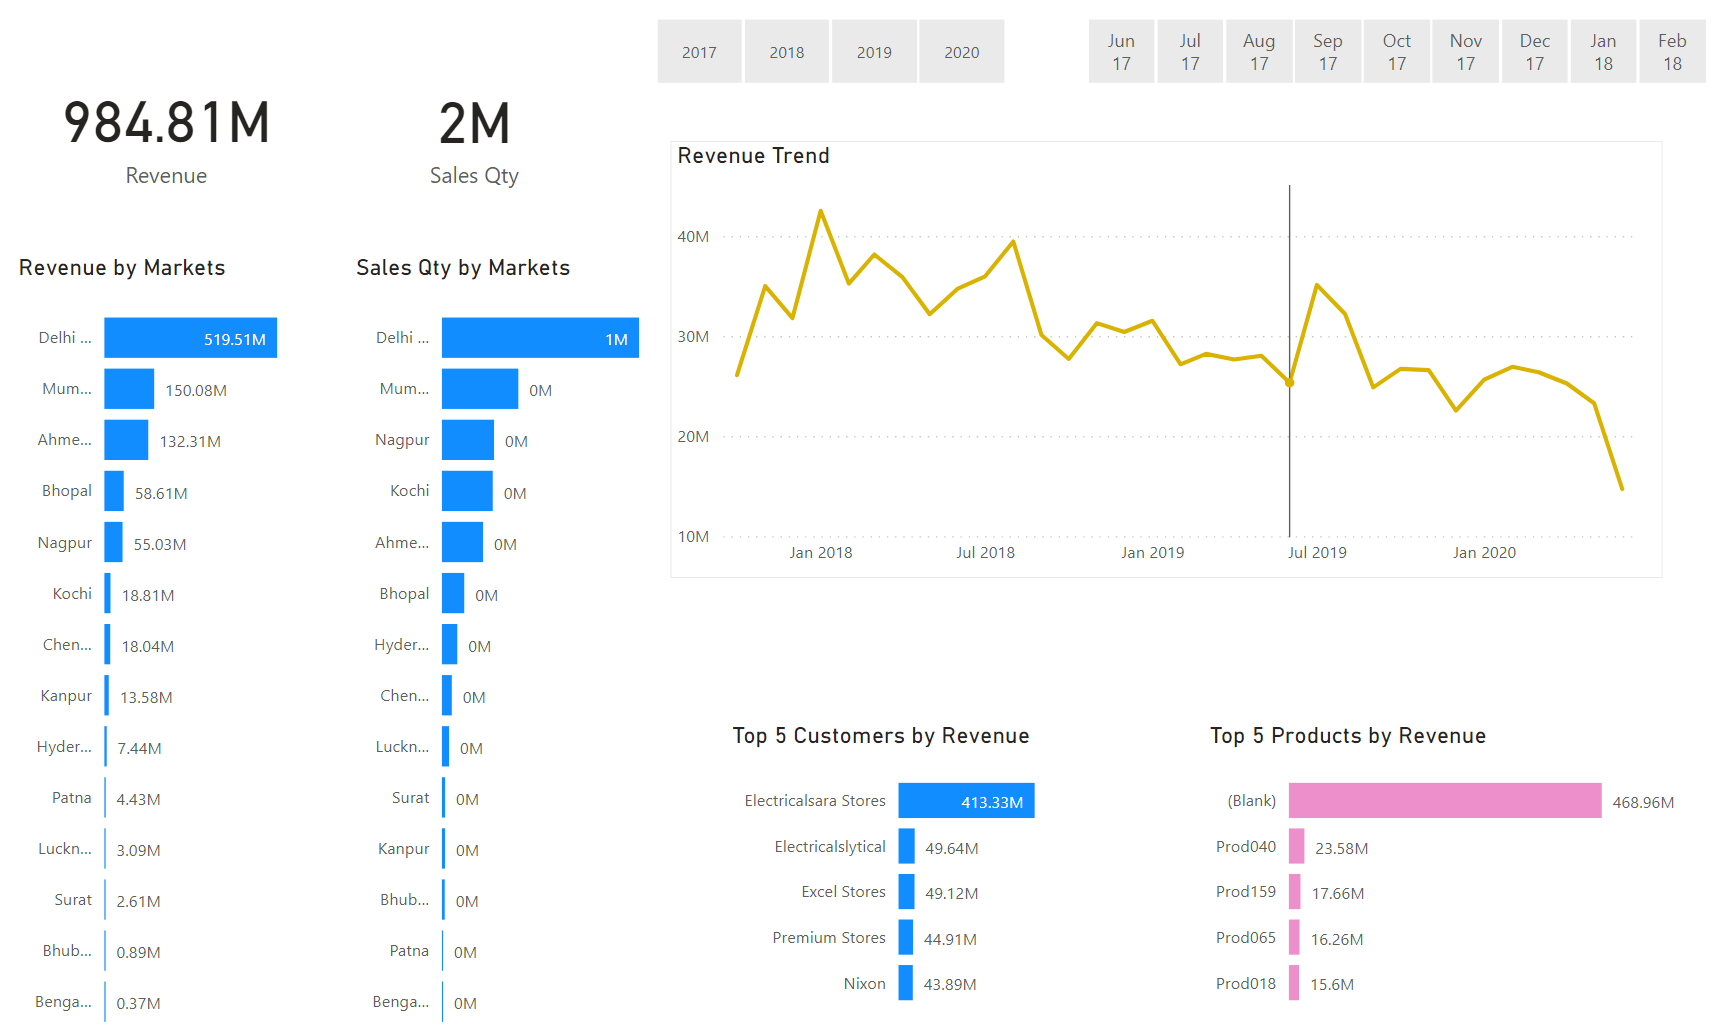

The page's visual inventory and layout, read from the dashboard file:
{"tool":"powerbi","page":{"name":"Page 1","canvas":[1280,820],"ordinal":0},"visuals":[{"type":"card","fields":{"Values":["BaseMeasures.Revenue"]},"box":[15.1,14.2,225.2,178.2],"z":0},{"type":"card","fields":{"Values":["BaseMeasures.Sales Qty"]},"box":[239.9,14.2,225.7,178.6],"z":1},{"type":"barChart","title":"Revenue by Markets","fields":{"Y":["BaseMeasures.Revenue"],"Category":["sales markets.markets_name"]},"box":[14.2,192.8,219.4,584.6],"z":2},{"type":"barChart","title":"Sales Qty by Markets","fields":{"Y":["BaseMeasures.Sales Qty"],"Category":["sales markets.markets_name"]},"box":[261.2,192.8,219.4,584.6],"z":3},{"type":"slicer","fields":{"Values":["sales date.year"]},"box":[461.1,14.2,304.7,60.4],"z":4},{"type":"slicer","fields":{"Values":["sales date.cy_date"]},"box":[777.4,14.2,502.8,60.4],"z":5},{"type":"barChart","title":"Top 5 Customers by Revenue","fields":{"Y":["BaseMeasures.Revenue"],"Category":["sales customers.custmer_name"]},"box":[537.5,535.7,277.2,223.9],"z":6},{"type":"barChart","title":"Top 5 Products by Revenue","fields":{"Y":["BaseMeasures.Revenue"],"Category":["sales products.product_code"]},"box":[887.5,535.7,361.6,223.9],"z":7},{"type":"lineChart","title":"Revenue Trend","fields":{"Y":["BaseMeasures.Revenue"],"Category":["sales date.cy_date"]},"box":[497.5,110.2,727.6,320.7],"z":8}]}

Visuals, with their boxes on the page's 1280x820 design canvas (x1, y1, x2, y2). These are canvas units, not pixel positions in the 1717x1036 screenshot, which may show the page scaled, cropped or inside an application window:
card - BaseMeasures.Revenue: region(15, 14, 240, 192)
card - BaseMeasures.Sales Qty: region(240, 14, 466, 193)
"Revenue by Markets" barChart: region(14, 193, 234, 777)
"Sales Qty by Markets" barChart: region(261, 193, 481, 777)
slicer - sales date.year: region(461, 14, 766, 75)
slicer - sales date.cy_date: region(777, 14, 1280, 75)
"Top 5 Customers by Revenue" barChart: region(538, 536, 815, 760)
"Top 5 Products by Revenue" barChart: region(888, 536, 1249, 760)
"Revenue Trend" lineChart: region(498, 110, 1225, 431)
